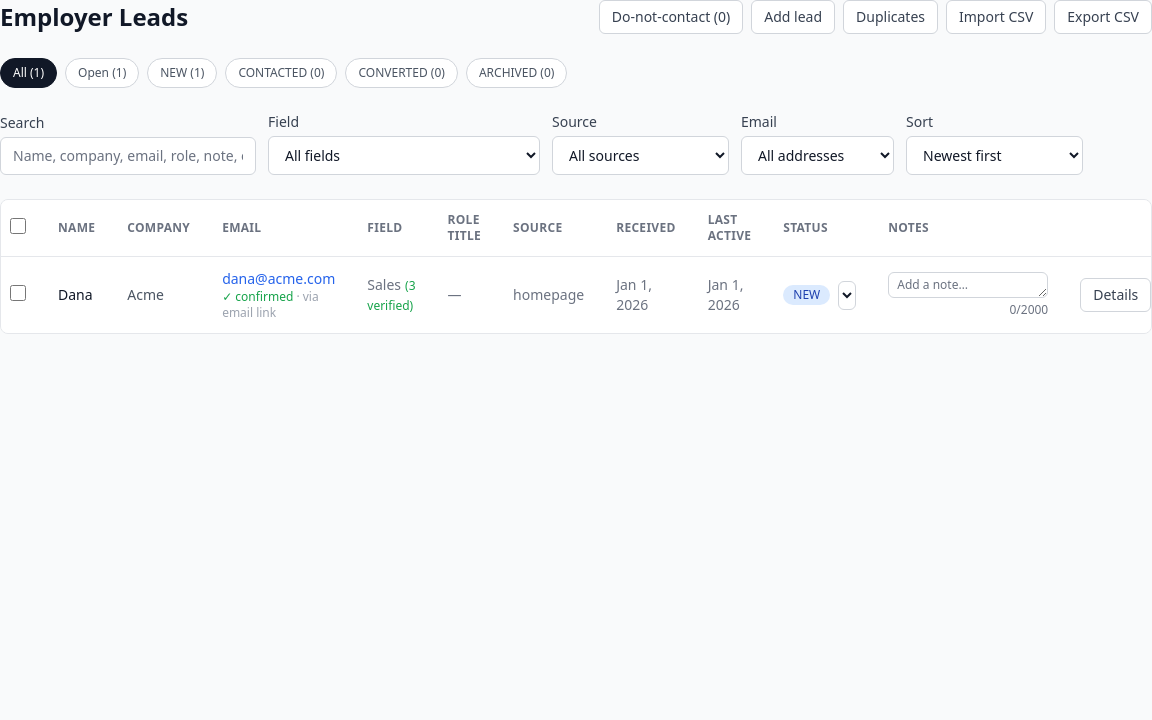
Test: AdminLeads — round 12 › opens the detail panel and shows status, mail history and same-inbox leads
What coordinates should you click on to do the following:
click the button "Details"
I would click on:
 (1116, 295)
Its box is x1=1080 y1=278 x2=1151 y2=312.
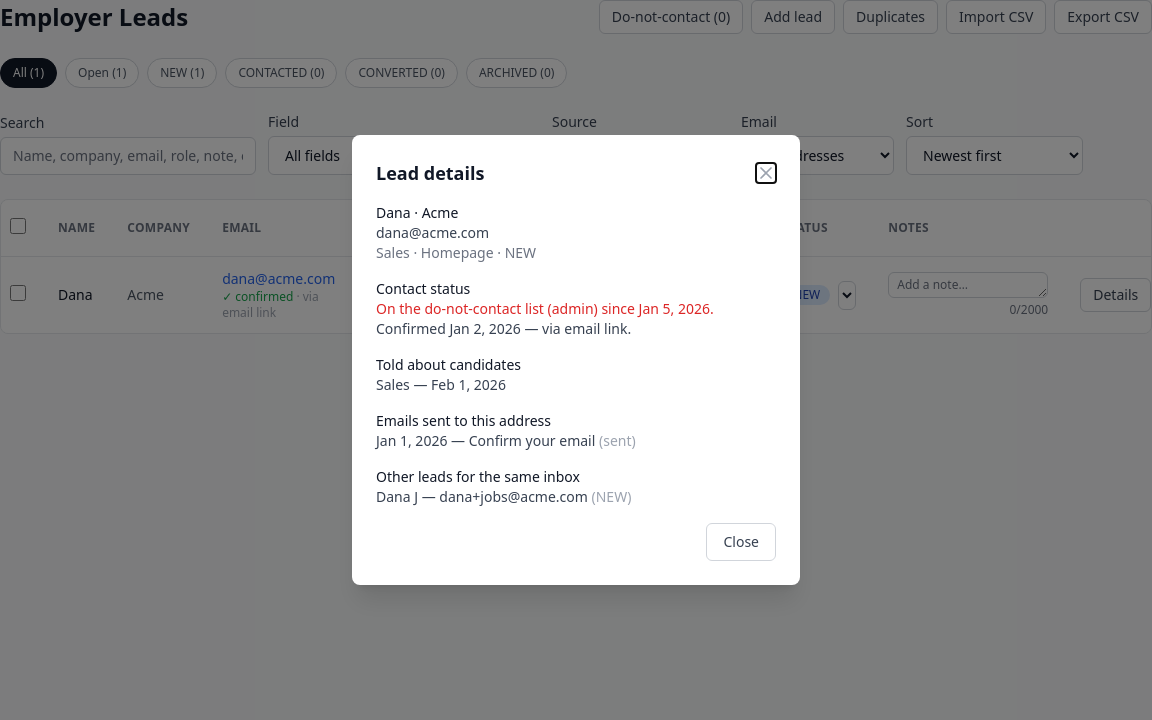
Check: the text "On the do-not-contact list (admin) since Jan 5, 2026." is shown, box x1=376 y1=299 x2=714 y2=318
Check: the list item "Jan 1, 2026 — Confirm your email (sent)" is shown, box x1=376 y1=431 x2=636 y2=450
Check: the list item "Dana J — dana+jobs@acme.com (NEW)" is shown, box x1=376 y1=487 x2=631 y2=506
